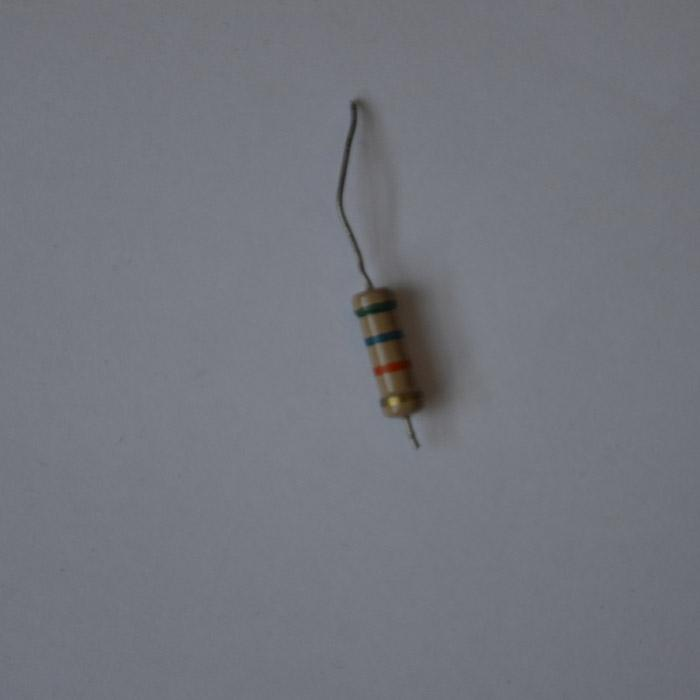resistor: (347, 281, 426, 422)
